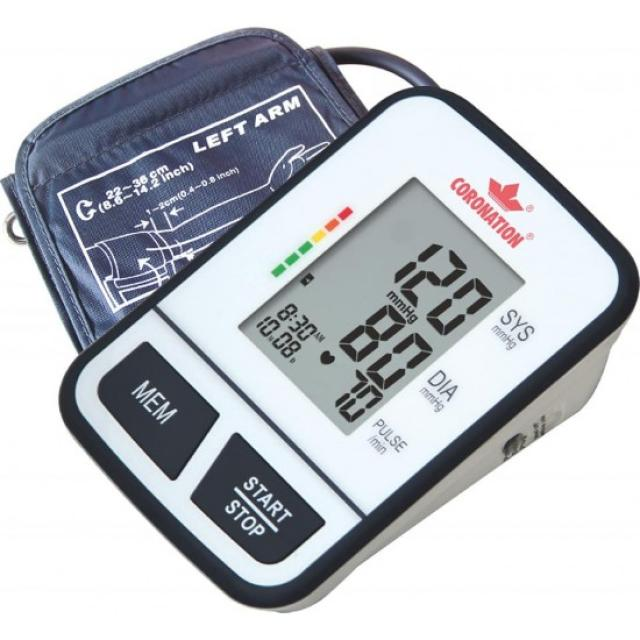dia: (327, 289, 443, 403)
pul: (313, 358, 388, 433)
ssd: (237, 163, 529, 444)
sys: (371, 221, 504, 352)
